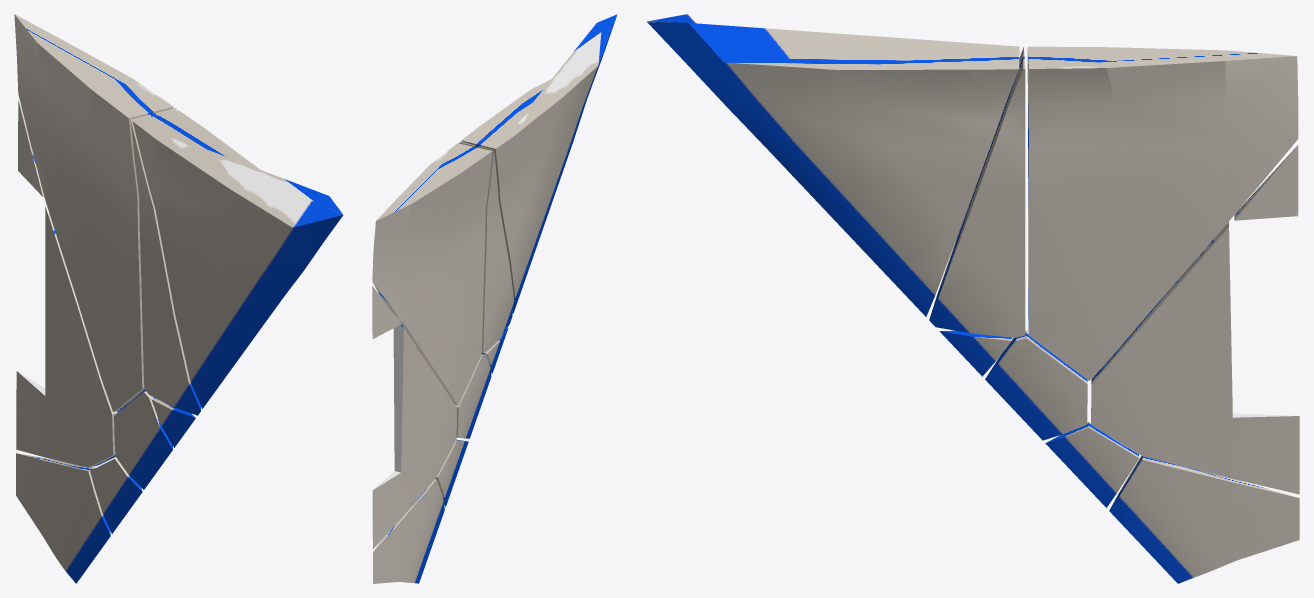
Rendered from heavy_wreckage3.fbx.
3 renders of one model, left to right at view 1: azimuth 30°, elevation 25°; view 2: azimuth 150°, elevation 25°; view 3: azimuth 270°, elevation 25°, orthographic. The views are drawn at different scales.
Visible parts, largest first — view 1: broke_wingDwn; view 2: broke_wingDwn; view 3: broke_wingDwn.
Part boxes in pixels (x1,y1,x2,y2): broke_wingDwn: (14, 14, 343, 583); broke_wingDwn: (372, 14, 617, 583); broke_wingDwn: (646, 14, 1299, 583).
Size of the model in its own units: 0.7331 by 8.26 by 8.64.
Materials: 1 (1 with a texture image).
